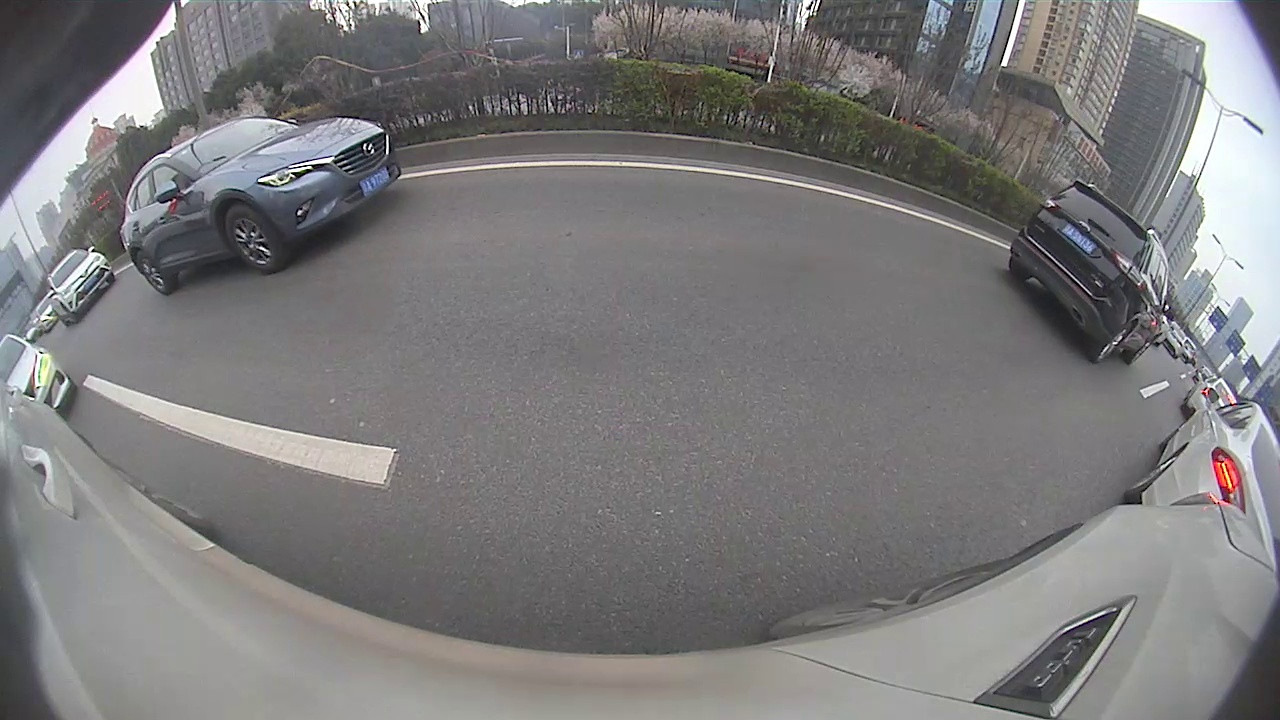car: (118, 113, 403, 294), (1006, 178, 1177, 365), (1121, 387, 1278, 573), (43, 246, 114, 326)
front: (224, 203, 280, 274)
rear: (1095, 319, 1138, 363), (132, 252, 169, 294)
